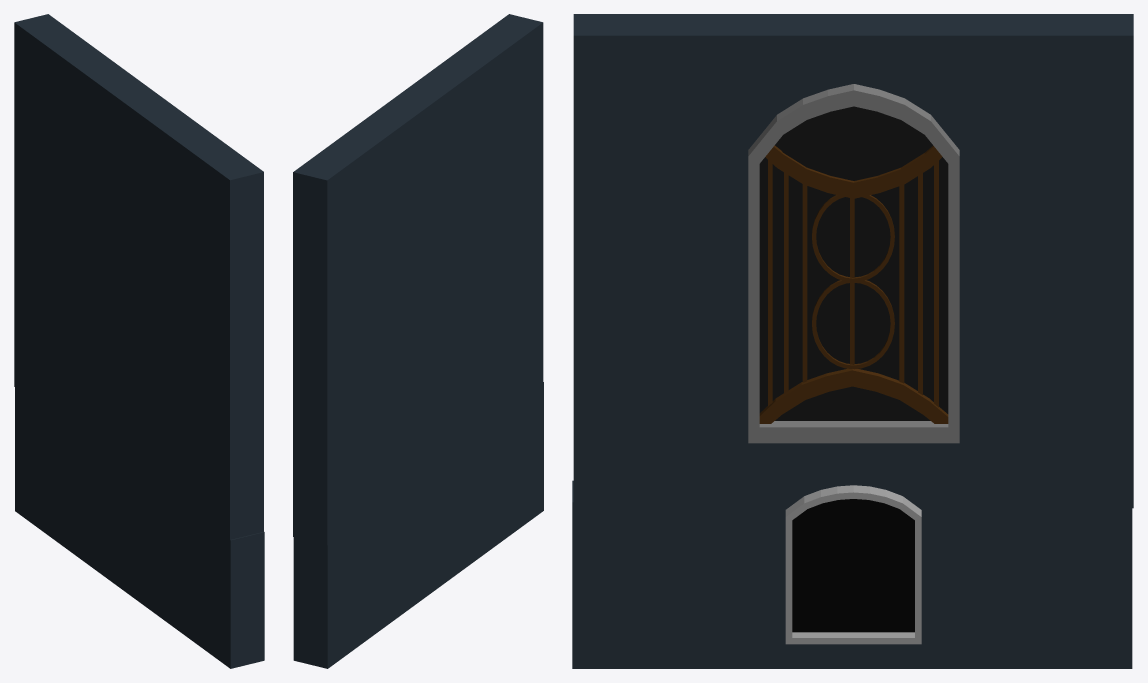
Rendered from main_back_to_side_block2.glb.
3 renders of one model, left to right at view 1: azimuth 30°, elevation 25°; view 2: azimuth 150°, elevation 25°; view 3: azimuth 270°, elevation 25°, orthographic. The views are drawn at different scales.
Visible parts, largest first — view 1: Cube, Cube.010; view 2: Cube, Cube.010; view 3: Cube, Cube.010, Cube.001, Khung001, Cube.009, khung001, decor001.001, decor001, Cylinder.002, Cylinder.001, Cube.005, Cube.008 (+5 smaller).
Part boxes in pixels (x1=…): Cube: x1=14, y1=14, x2=263, y2=544; Cube.010: x1=15, y1=385, x2=264, y2=668; Cube: x1=293, y1=14, x2=543, y2=545; Cube.010: x1=293, y1=382, x2=543, y2=668; Cube: x1=573, y1=14, x2=1133, y2=508; Cube.010: x1=572, y1=480, x2=1132, y2=668; Cube.001: x1=759, y1=106, x2=948, y2=420; Khung001: x1=748, y1=84, x2=959, y2=443; Cube.009: x1=792, y1=499, x2=914, y2=632; khung001: x1=785, y1=485, x2=921, y2=644; decor001.001: x1=759, y1=368, x2=948, y2=423; decor001: x1=765, y1=145, x2=942, y2=198; Cylinder.002: x1=812, y1=280, x2=894, y2=369; Cylinder.001: x1=812, y1=195, x2=894, y2=282; Cube.005: x1=934, y1=160, x2=938, y2=407; Cube.008: x1=768, y1=160, x2=772, y2=406.
Size of the model in its own units: 1.03 by 10.59 by 8.5.
